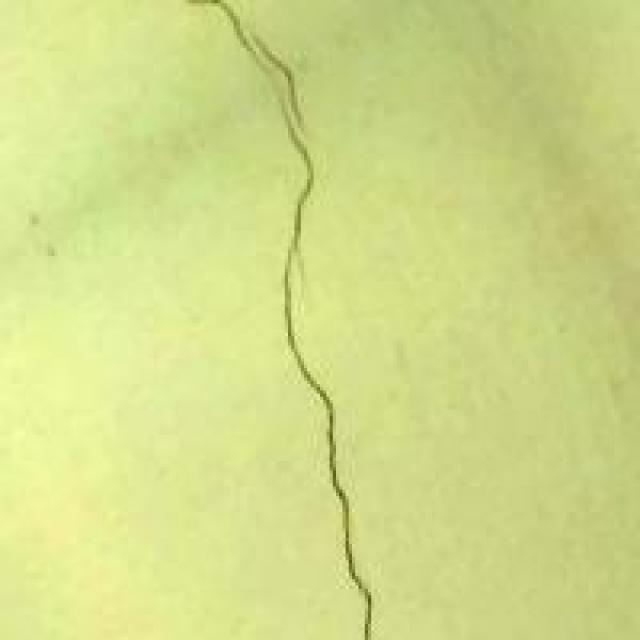Crack: (170, 0, 407, 637)
